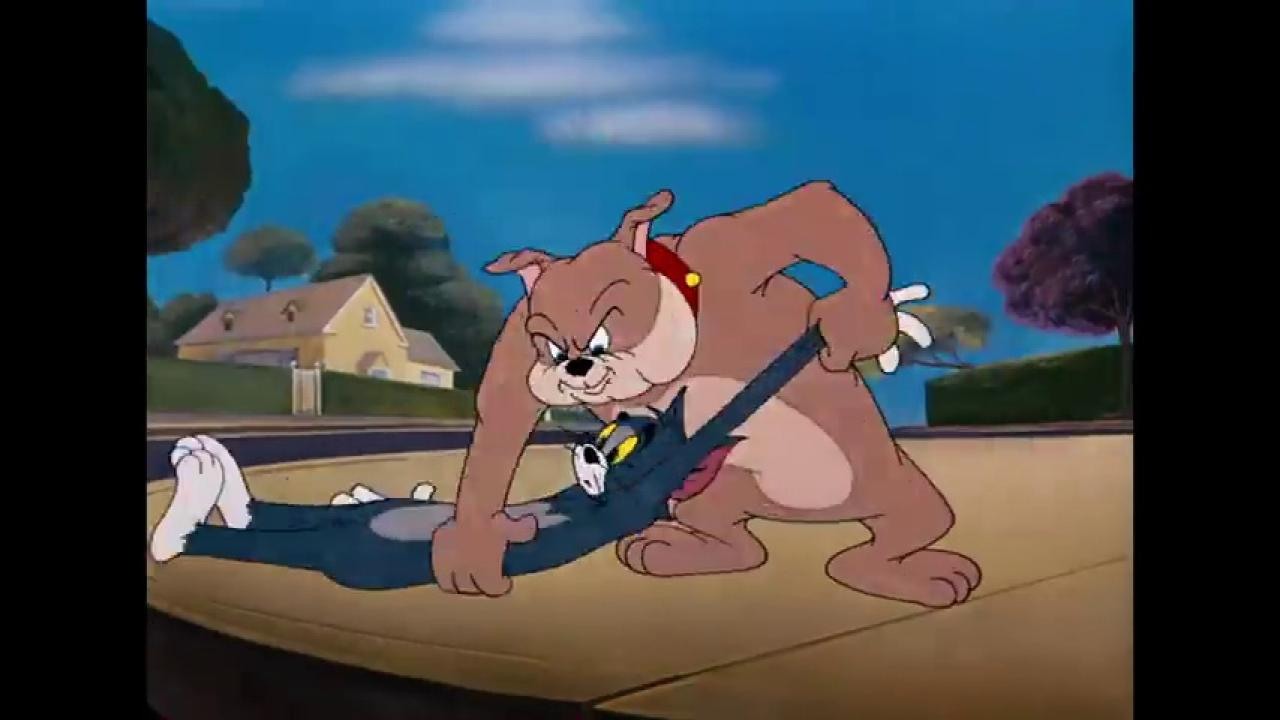Tom: (149, 279, 937, 596)
